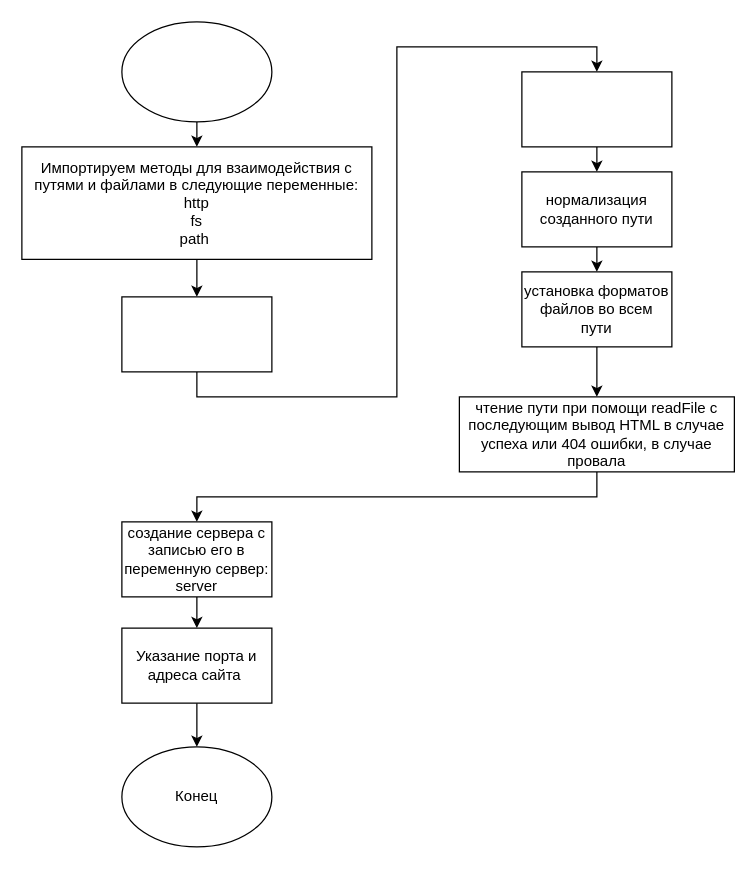
Some shapes in this 756 by 869 pixel diagram are drawn without their labels. Each missing label, with the box of its shape:
вызов функции OnRequest: (121, 296, 272, 372)
НАЧАЛО: (121, 21, 272, 122)
создание пути к файлу index.html: (521, 71, 672, 147)
